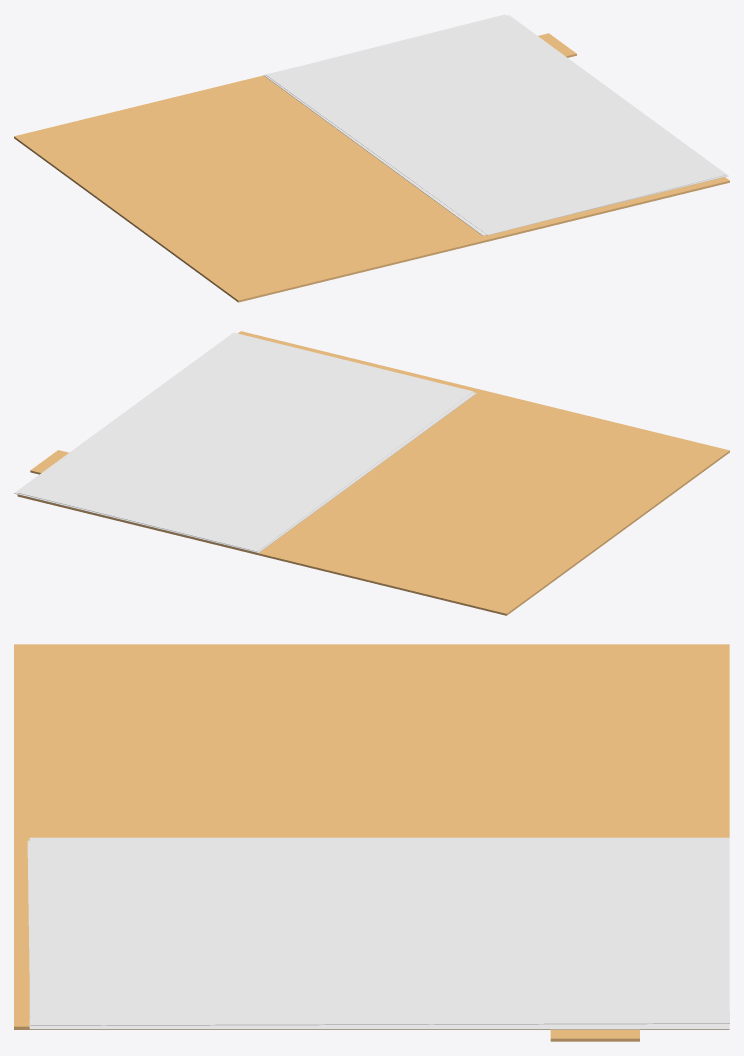
File: Ordner offen.fbx
The picture shows the model from 3 angles, top to bottom: view 1: azimuth 30°, elevation 25°; view 2: azimuth 150°, elevation 25°; view 3: azimuth 270°, elevation 25°; orthographic projection. The views are drawn at different scales.
Visible parts, largest first — view 1: mesh_2146291506, group_1815095154, group_1129235866; view 2: mesh_2146291506, group_1815095154, group_1129235866; view 3: mesh_2146291506, group_1815095154, group_1129235866.
Boxes of the visible parts, left/top/right/bottom form: mesh_2146291506: left=14, top=33, right=729, bottom=302; group_1815095154: left=266, top=14, right=726, bottom=235; group_1129235866: left=263, top=15, right=728, bottom=235; mesh_2146291506: left=17, top=331, right=729, bottom=615; group_1815095154: left=18, top=332, right=473, bottom=551; group_1129235866: left=14, top=334, right=476, bottom=553; mesh_2146291506: left=14, top=644, right=729, bottom=1041; group_1815095154: left=27, top=838, right=729, bottom=1025; group_1129235866: left=29, top=837, right=729, bottom=1029.
Bounding box in the file's own units: 652 × 4.89 × 500.
